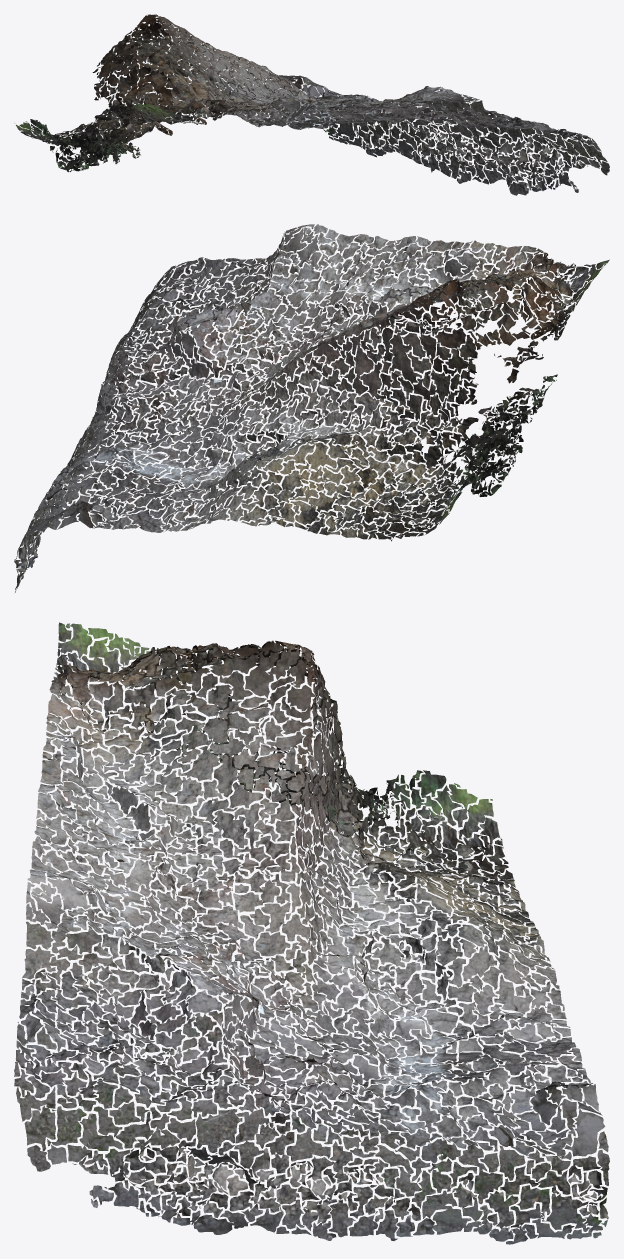
The model's file is gst1.glb.
The picture shows the model from 3 angles, top to bottom: view 1: azimuth 30°, elevation 25°; view 2: azimuth 150°, elevation 25°; view 3: azimuth 270°, elevation 25°; orthographic projection. The views are drawn at different scales.
Bounding box in the file's own units: 148 × 87.96 × 120.
1 material, 1 textured.
